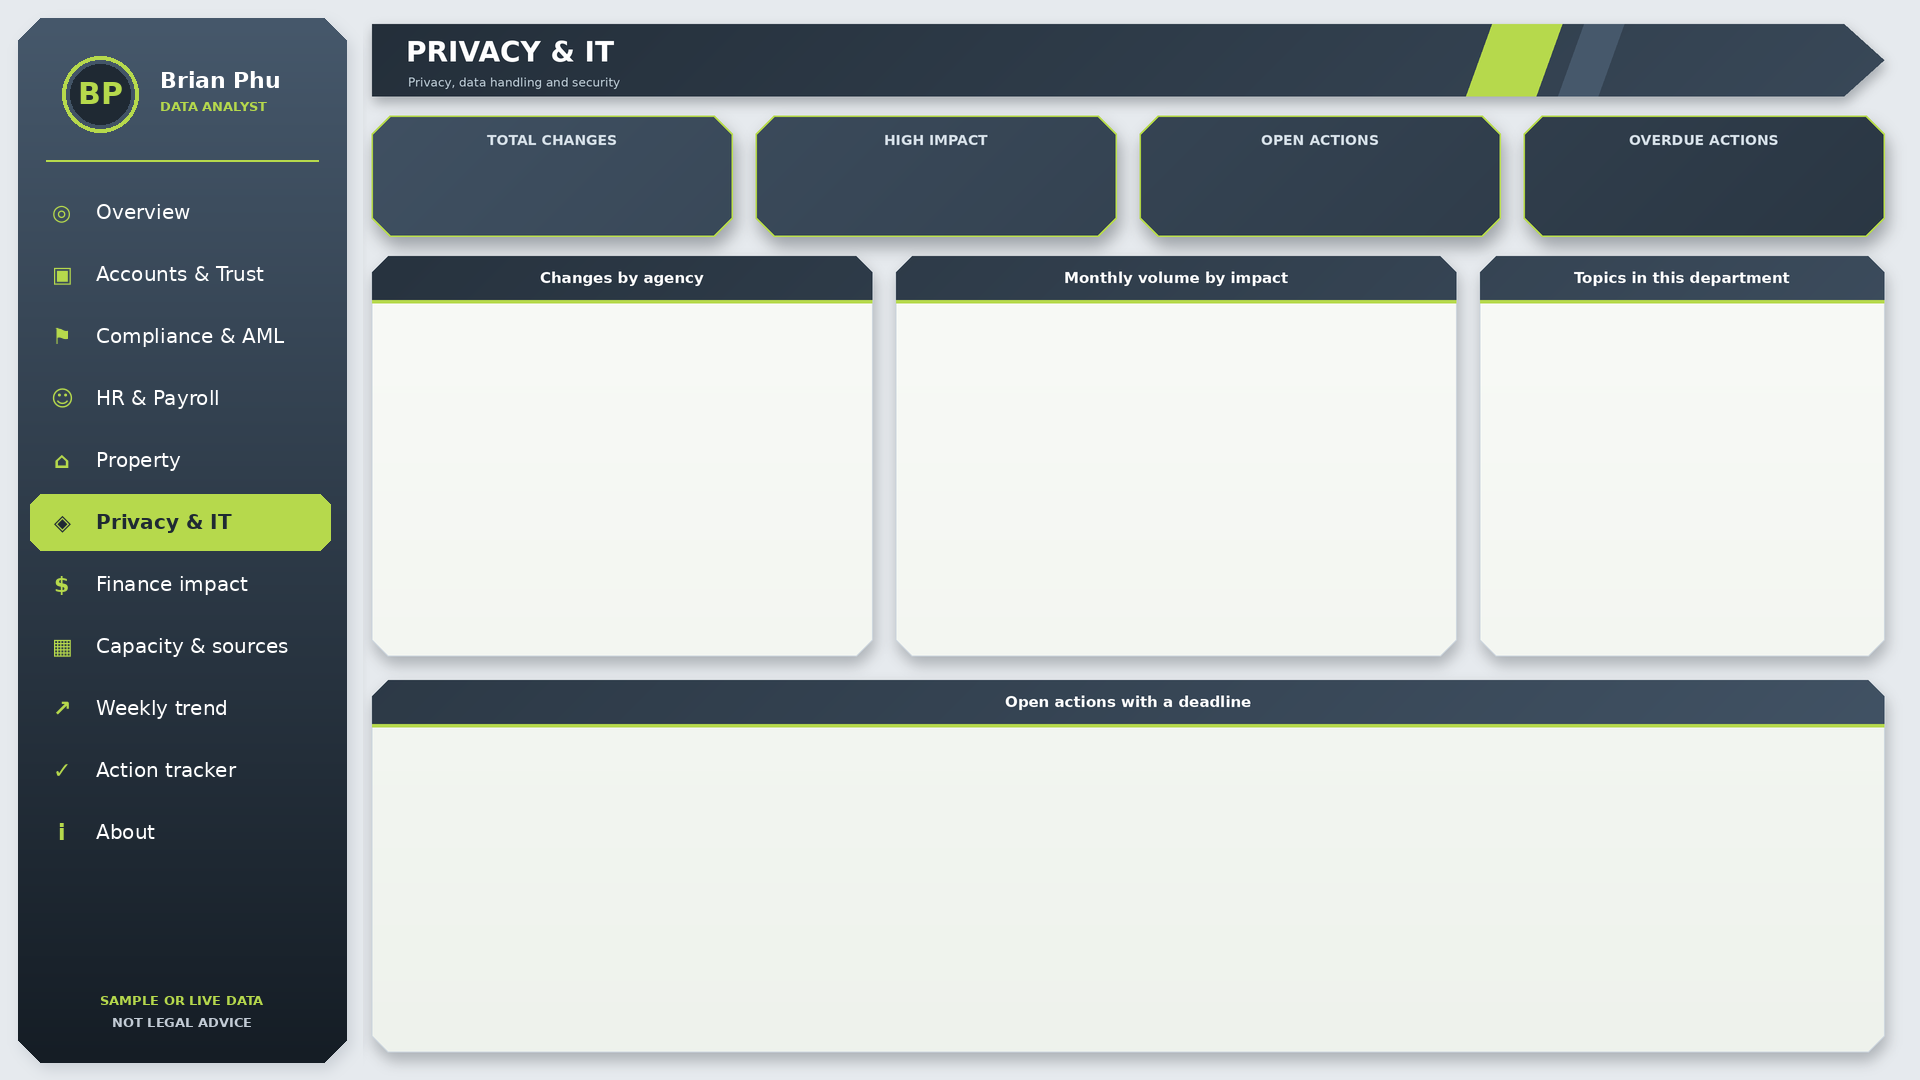

This screenshot's page, from the dashboard's own definition file:
{"tool":"powerbi","page":{"name":"Accounts & Trust","canvas":[1920,1080],"ordinal":1},"visuals":[{"type":"cardVisual","fields":{"Data":["changes.Total Changes"]},"box":[382,146,340,84],"z":1200},{"type":"cardVisual","fields":{"Data":["changes.High Impact"]},"box":[766,146,340,84],"z":1210},{"type":"cardVisual","fields":{"Data":["changes.Open Actions"]},"box":[1150,146,340,84],"z":1220},{"type":"cardVisual","fields":{"Data":["changes.Overdue Actions"]},"box":[1534,146,340,84],"z":1230},{"type":"lineClusteredColumnComboChart","fields":{"Category":["changes.source"],"Y":["changes.Total Changes"],"Y2":["changes.Action Rate"]},"box":[384,308,476,336],"z":1240},{"type":"columnChart","fields":{"Category":["dim_date.year_month"],"Series":["changes.impact"],"Y":["changes.Total Changes"]},"box":[908,308,536,336],"z":1250},{"type":"barChart","fields":{"Category":["change_topics.topic"],"Y":["changes.Total Changes"]},"box":[1492,308,380,336],"z":1260},{"type":"tableEx","fields":{"Values":["changes.title","changes.source","changes.impact","changes.deadline","changes.Days To Deadline","changes.status"]},"box":[384,732,1488,308],"z":1270},{"type":"slicer","title":"Status","fields":{"Values":["changes.status"]},"box":[1120,26,180,62],"z":1280},{"type":"slicer","title":"Year","fields":{"Values":["dim_date.year"]},"box":[1316,26,150,62],"z":1290},{"type":"actionButton","box":[30,190,300,56],"z":9000},{"type":"actionButton","box":[30,256,300,56],"z":9001},{"type":"actionButton","box":[30,322,300,56],"z":9002},{"type":"actionButton","box":[30,388,300,56],"z":9003},{"type":"actionButton","box":[30,454,300,56],"z":9004},{"type":"actionButton","box":[30,520,300,56],"z":9005},{"type":"actionButton","box":[30,586,300,56],"z":9006},{"type":"actionButton","box":[30,652,300,56],"z":9007}]}

Visuals, with their boxes in screenshot pixels (x1, y1, x2, y2), scaled from the page's 1920x1080 canvas onto the 1920x1080 screenshot:
cardVisual - changes.Total Changes: left=382, top=146, right=722, bottom=230
cardVisual - changes.High Impact: left=766, top=146, right=1106, bottom=230
cardVisual - changes.Open Actions: left=1150, top=146, right=1490, bottom=230
cardVisual - changes.Overdue Actions: left=1534, top=146, right=1874, bottom=230
lineClusteredColumnComboChart - changes.source x changes.Total Changes: left=384, top=308, right=860, bottom=644
columnChart - dim_date.year_month x changes.impact: left=908, top=308, right=1444, bottom=644
barChart - change_topics.topic x changes.Total Changes: left=1492, top=308, right=1872, bottom=644
tableEx - changes.title x changes.source: left=384, top=732, right=1872, bottom=1040
"Status" slicer: left=1120, top=26, right=1300, bottom=88
"Year" slicer: left=1316, top=26, right=1466, bottom=88
actionButton: left=30, top=190, right=330, bottom=246
actionButton: left=30, top=256, right=330, bottom=312
actionButton: left=30, top=322, right=330, bottom=378
actionButton: left=30, top=388, right=330, bottom=444
actionButton: left=30, top=454, right=330, bottom=510
actionButton: left=30, top=520, right=330, bottom=576
actionButton: left=30, top=586, right=330, bottom=642
actionButton: left=30, top=652, right=330, bottom=708
